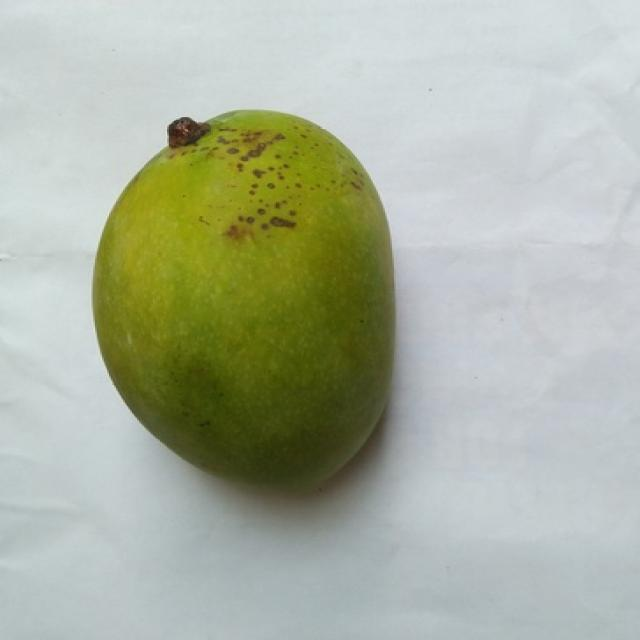Mango: (93, 110, 394, 491)
